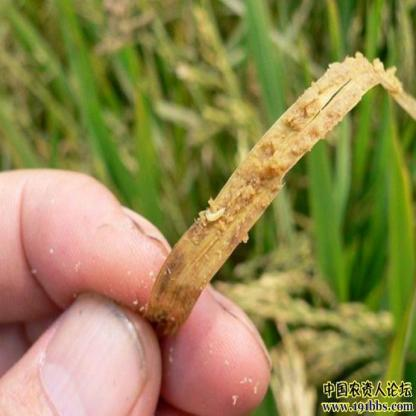whorl-maggot: (204, 203, 233, 228)
